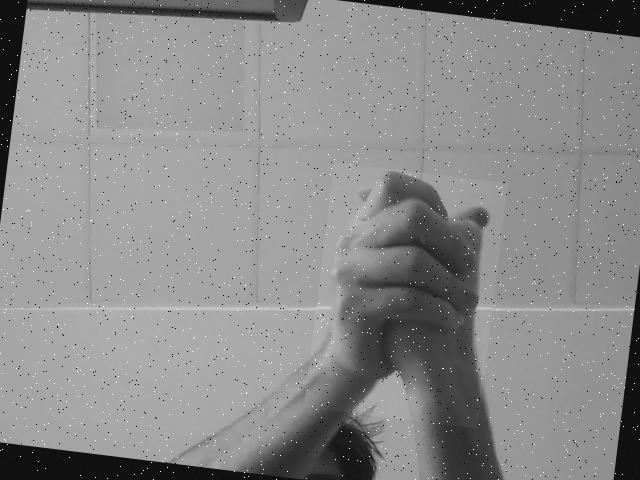friend: (310, 168, 493, 413)
